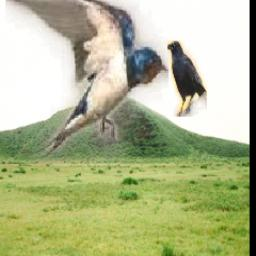Crow: (166, 40, 206, 117)
Swallow: (4, 0, 167, 182)
